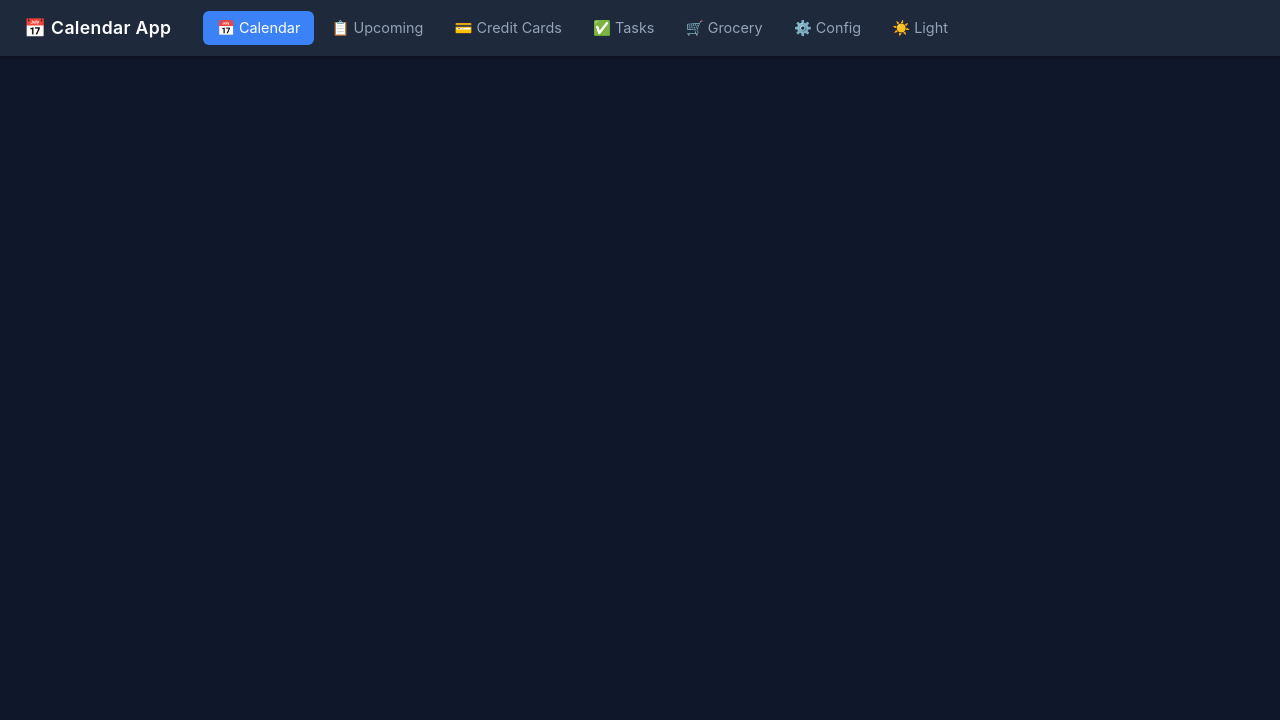
AppHeader — dark mode toggle › toggles button text when clicked
This screenshot has width=1280, height=720.
Click the button titled "Toggle dark/light mode": x=920, y=28 879,11 -> 962,45
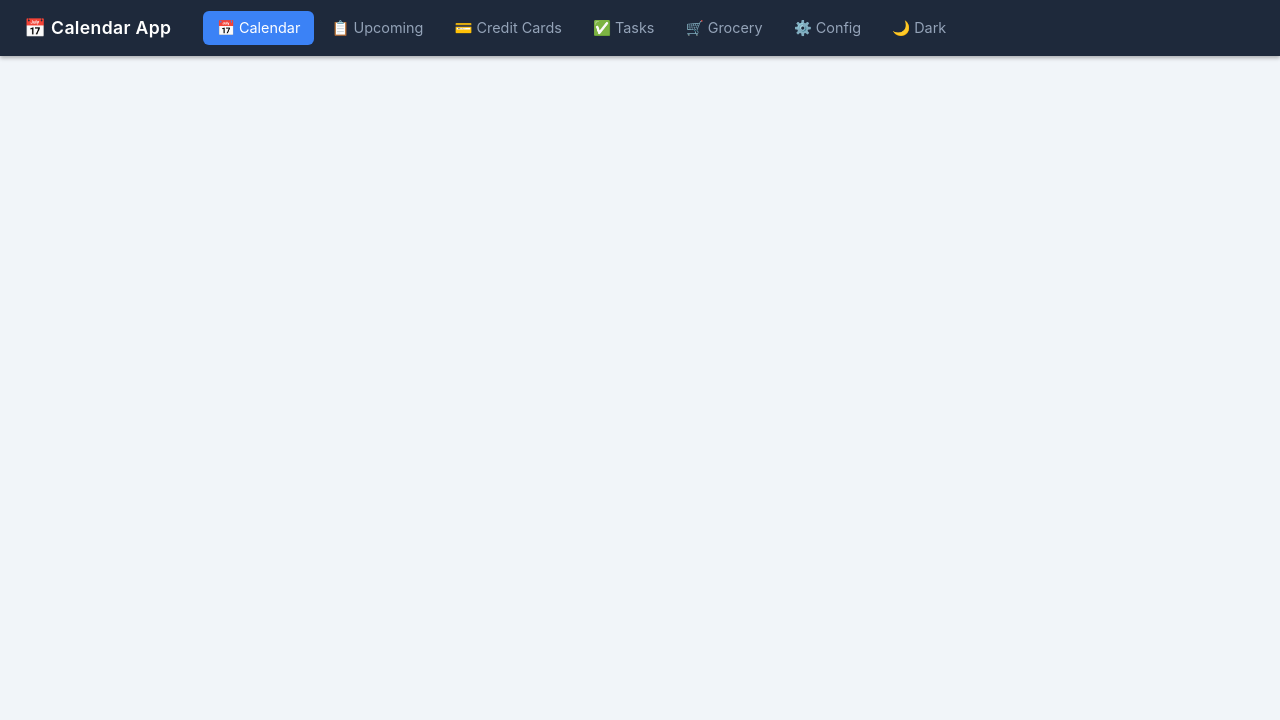
Check: the button titled "Toggle dark/light mode" no longer shows "☀️ Light"
